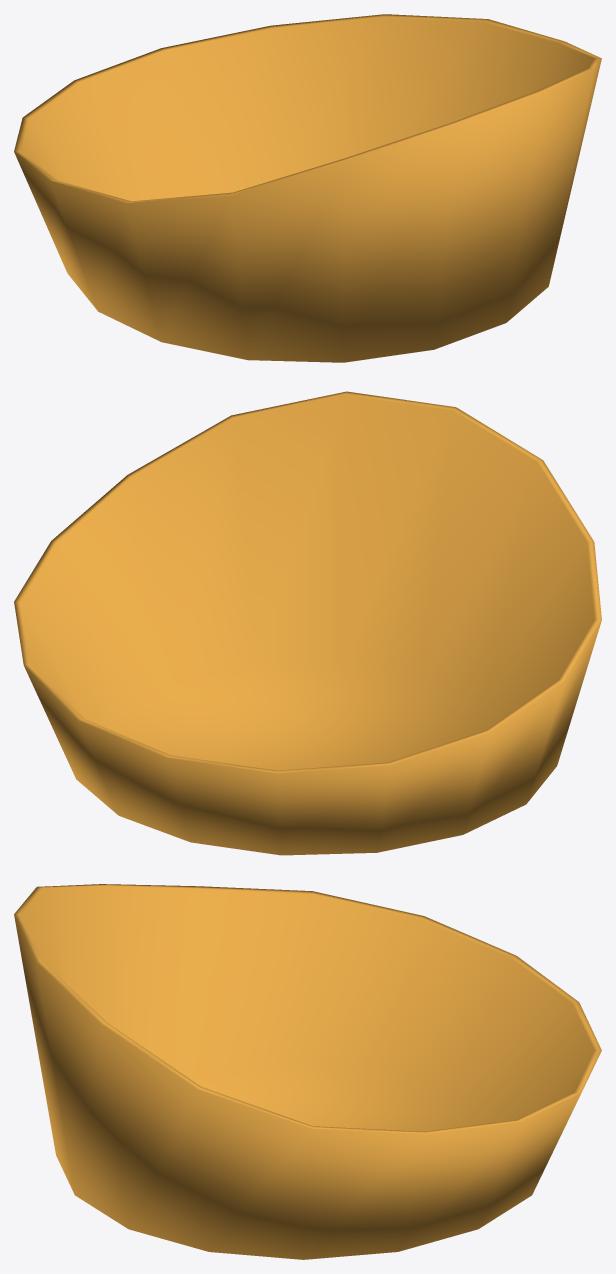
Rendered from Obstschale.fbx.
3 views of the same model, one above another, from view 1: azimuth 30°, elevation 25°; view 2: azimuth 150°, elevation 25°; view 3: azimuth 270°, elevation 25° (orthographic).
Parts seen in each view (by area): view 1: Obstschale; view 2: Obstschale; view 3: Obstschale.
Part boxes in pixels (<box>): Obstschale: <box>14,14,601,362</box>; Obstschale: <box>14,391,601,855</box>; Obstschale: <box>14,884,601,1259</box>.
Bounding box in the file's own units: 43.32 × 20.75 × 42.63.
